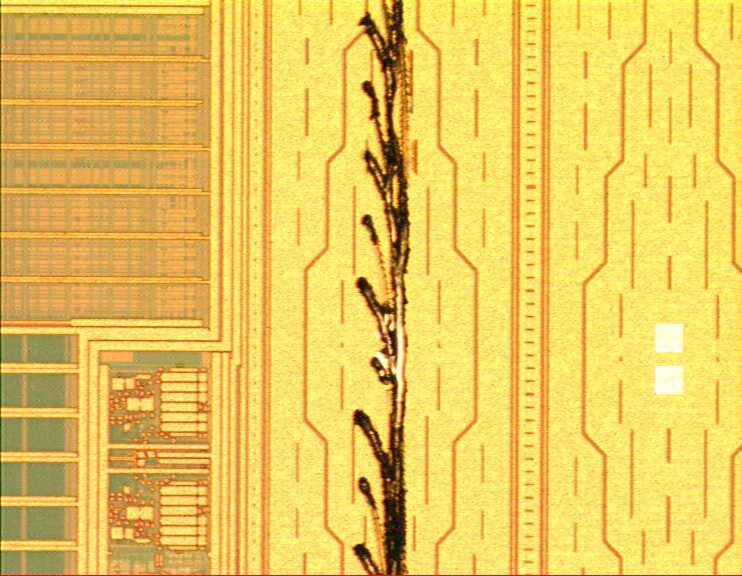SCRATCH: (351, 1, 422, 576)
